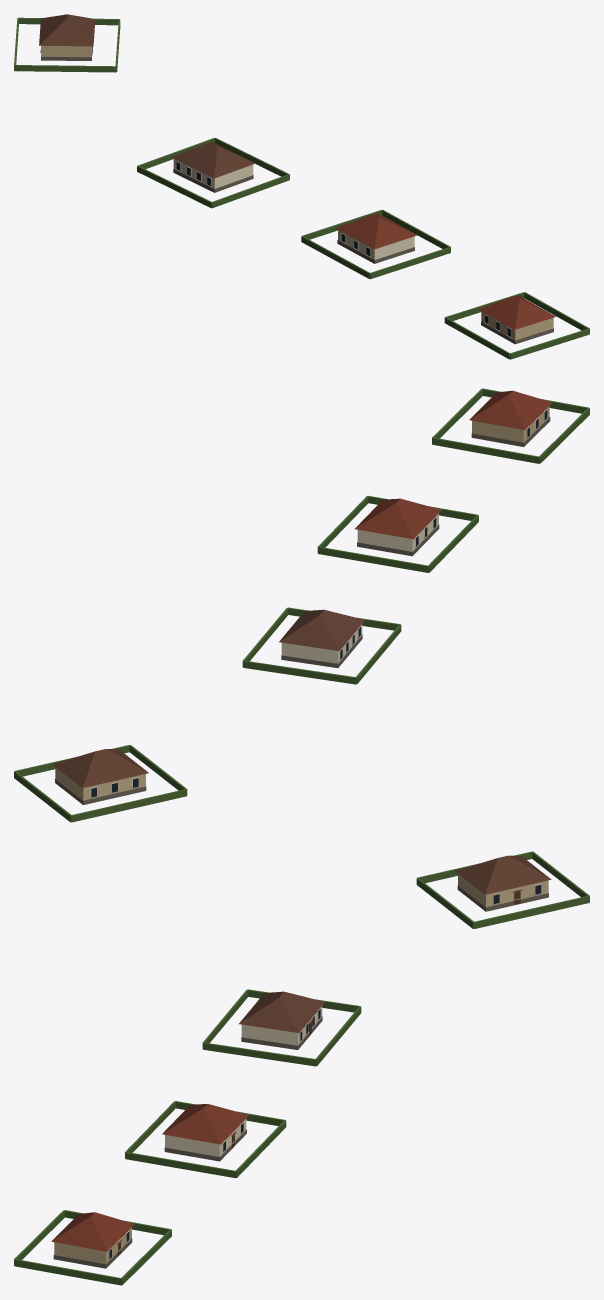
The model's file is Budynki_2_3.fbx.
The picture shows the model from 3 angles, top to bottom: view 1: azimuth 30°, elevation 25°; view 2: azimuth 150°, elevation 25°; view 3: azimuth 330°, elevation 25°; orthographic projection. The views are drawn at different scales.
Visible parts, largest first — view 1: Willa_15, Willa_14, Willa_13, Willa_16, Zywoplot_15, Zywoplot_14, Zywoplot_13, Zywoplot_16; view 2: Willa_16, Willa_15, Willa_14, Willa_13, Zywoplot_16, Zywoplot_14, Zywoplot_15, Zywoplot_13; view 3: Willa_16, Willa_15, Willa_14, Willa_13, Zywoplot_16, Zywoplot_14, Zywoplot_15, Zywoplot_13.
Boxes of the visible parts, x1=… form: Willa_15: x1=171, y1=142, x2=255, y2=192; Willa_14: x1=335, y1=214, x2=416, y2=263; Willa_13: x1=478, y1=295, x2=555, y2=344; Willa_16: x1=39, y1=14, x2=95, y2=60; Zywoplot_15: x1=137, y1=138, x2=289, y2=208; Zywoplot_14: x1=301, y1=209, x2=450, y2=279; Zywoplot_13: x1=444, y1=292, x2=589, y2=359; Zywoplot_16: x1=14, y1=17, x2=120, y2=72; Willa_16: x1=52, y1=749, x2=148, y2=804; Willa_15: x1=279, y1=609, x2=364, y2=667; Willa_14: x1=355, y1=498, x2=441, y2=556; Willa_13: x1=469, y1=390, x2=552, y2=446; Zywoplot_16: x1=14, y1=745, x2=187, y2=822; Zywoplot_14: x1=317, y1=495, x2=478, y2=572; Zywoplot_15: x1=242, y1=607, x2=401, y2=684; Zywoplot_13: x1=432, y1=388, x2=589, y2=463; Willa_16: x1=455, y1=855, x2=551, y2=911; Willa_15: x1=239, y1=991, x2=324, y2=1049; Willa_14: x1=162, y1=1104, x2=249, y2=1161; Willa_13: x1=51, y1=1212, x2=134, y2=1268; Zywoplot_16: x1=416, y1=851, x2=589, y2=928; Zywoplot_14: x1=125, y1=1101, x2=286, y2=1178; Zywoplot_15: x1=202, y1=989, x2=361, y2=1066; Zywoplot_13: x1=14, y1=1210, x2=171, y2=1285.
Size of the model in its own units: 39.27 by 6.8 by 183.
